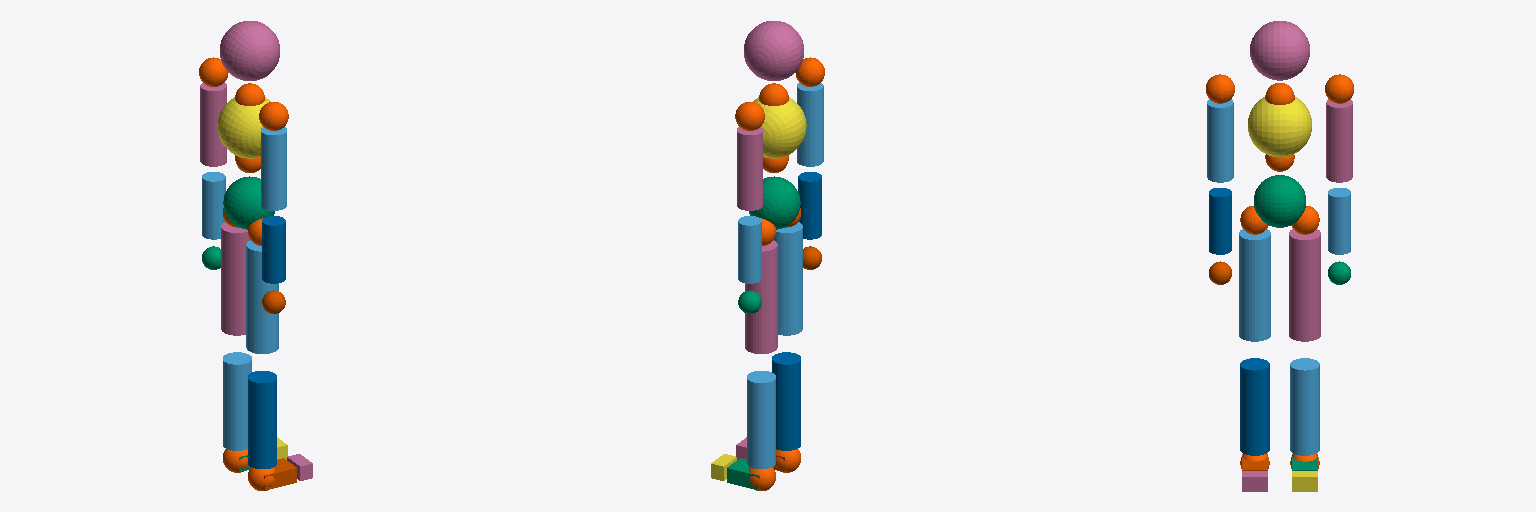
--- What the picture shows (computed from the rendered views, not written in the file) ---
3 views of the same robot in one strip: view 1: azimuth 30°, elevation 25°; view 2: azimuth 150°, elevation 25°; view 3: azimuth 270°, elevation 25° (orthographic).
Model W0004 with 35 links and 34 joints (28 revolute, 6 fixed), rooted at base_link, posed every joint at zero.
Links seen in each view (by area): view 1: neck, right_knee, left_hip, right_hip, left_knee, chest, right_shoulder, left_shoulder, root, right_elbow, left_elbow, chest_right_shoulder_link2 (+3 smaller); view 2: neck, left_knee, right_hip, left_hip, right_knee, chest, left_shoulder, right_shoulder, root, left_elbow, right_elbow, chest_left_shoulder_link2 (+3 smaller); view 3: right_hip, left_hip, chest, right_knee, left_knee, neck, root, right_shoulder, left_shoulder, right_elbow, left_elbow, chest_right_shoulder_link2 (+4 smaller).
Link boxes in pixels (x1,y1,x2,y2): neck: (220,21,279,80); right_knee: (248,371,276,468); left_hip: (221,222,249,335); right_hip: (246,240,278,353); left_knee: (223,352,251,450); chest: (217,97,270,158); right_shoulder: (261,127,286,210); left_shoulder: (200,82,226,166); root: (223,176,274,229); right_elbow: (262,216,285,283); left_elbow: (202,172,225,239); chest_right_shoulder_link2: (259,102,288,130); neck: (744,21,803,80); left_knee: (747,371,775,468); right_hip: (774,222,802,335); left_hip: (745,240,777,353); right_knee: (772,352,800,450); chest: (753,97,806,158); left_shoulder: (737,127,762,210); right_shoulder: (797,82,823,166); root: (749,176,800,229); left_elbow: (738,216,761,283); right_elbow: (798,172,821,239); chest_left_shoulder_link2: (735,102,764,130); right_hip: (1239,229,1270,341); left_hip: (1289,229,1320,341); chest: (1248,97,1311,156); right_knee: (1240,358,1269,455); left_knee: (1290,358,1319,455); neck: (1250,21,1309,80); root: (1254,175,1305,227); right_shoulder: (1207,99,1233,182); left_shoulder: (1326,99,1352,182); right_elbow: (1209,188,1231,254); left_elbow: (1328,188,1350,254); chest_right_shoulder_link2: (1206,74,1234,103).
Size in the robot's own frame: 0.28 by 0.505 by 1.7 metres.
Geometry: primitives only (box / cylinder / sphere), no mesh files.

robot.urdf — W0004:
<?xml version="1.0" ?>
            <robot name="W0004">
            <material name="orange">
                <color rgba="1.0 0.4235294117647059 0.0392156862745098 1.0"/>
            </material>
            <link name="base_link">
                </link>
            <link name="base">
                </link>
            <joint name="j_base_base_link_rotation" type="fixed">
                <parent link="base_link"/>
                <child link="base"/>
                <origin rpy="1.5707963267948966 0 0" xyz="0 0 0"/>
            </joint>
            <link name="root">
                <inertial>
                <origin rpy="0 0 0" xyz="0.0 0.07 0.0"/>
                <mass value="6.000000"/>
                <inertia ixx="0.019440000000000002" ixy="0" ixz="0" iyy="0.019440000000000002" iyz="0" izz="0.019440000000000002"/>
                </inertial>
                <collision>
                <origin rpy="0 0 0" xyz="0.000000 0.070000 0.000000"/>
                <geometry>
                    <sphere radius="0.09"/>
                </geometry>
                </collision>
                <visual>
                <origin rpy="0 0 0" xyz="0.000000 0.070000 0.000000"/>
                <geometry>
                    <sphere radius="0.09"/>
                </geometry>
                </visual>
            </link>
            <joint name="j_root" type="fixed">
                <parent link="base"/>
                <child link="root"/>
                <origin rpy="0 0 0" xyz="0 0.000000 0.000000"/>
            </joint>
            <link name="chest">
                <inertial>
                <origin rpy="0 0 0" xyz="0.000000 0.120000 0.000000"/>
                <mass value="14.000000"/>
                <inertia ixx="0.06776000000000001" ixy="0" ixz="0" iyy="0.06776000000000001" iyz="0" izz="0.06776000000000001"/>
                </inertial>
                <collision>
                <origin rpy="0 0 0" xyz="0.000000 0.120000 0.000000"/>
                <geometry>
                    <sphere radius="0.11"/>
                </geometry>
                </collision>
                <visual>
                <origin rpy="0 0 0" xyz="0.000000 0.120000 0.000000"/>
                <geometry>
                    <sphere radius="0.11"/>
                </geometry>
                </visual>
            </link>
            <link name="root_chest_link1">
                <inertial>
                <mass value="1e-02"/>
                <inertia ixx="1e-02" ixy="0" ixz="0" iyy="1e-02" iyz="0" izz="1e-02"/>
                </inertial>
            </link>
            <joint name="j_root_chest_joint1" type="revolute">
                <origin rpy="0 0 0" xyz="0.0 0.236151 0.000000"/>
                <parent link="root"/>
                <child link="root_chest_link1"/>
                <axis xyz="1 0 0"/>
                <limit effort="200" lower="-1.2" upper="1.2" velocity="3"/>
            </joint>
            <link name="root_chest_link2">
                <inertial>
                <mass value="1e-02"/>
                <inertia ixx="1e-02" ixy="0" ixz="0" iyy="1e-02" iyz="0" izz="1e-02"/>
                </inertial>
                <visual>
                <geometry>
                    <sphere radius="0.05"/>
                </geometry>
                <material name="orange"/>
                </visual>
            </link>
            <joint name="j_root_chest_joint2" type="revolute">
                <parent link="root_chest_link1"/>
                <child link="root_chest_link2"/>
                <axis xyz="0 1 0"/>
                <limit effort="200" lower="-1.2" upper="1.2" velocity="3"/>
            </joint>
            <joint name="j_root_chest_joint3" type="revolute">
                <parent link="root_chest_link2"/>
                <child link="chest"/>
                <axis xyz="0 0 1"/>
                <limit effort="200" lower="-1.2" upper="1.2" velocity="3"/>
            </joint>
            <link name="neck">
                <inertial>
                <origin rpy="0 0 0" xyz="0.0 0.175 0.0"/>
                <mass value="2.000000"/>
                <inertia ixx="0.008405" ixy="0" ixz="0" iyy="0.008405" iyz="0" izz="0.008405"/>
                </inertial>
                <collision>
                <origin rpy="0 0 0" xyz="0.0 0.175 0.0"/>
                <geometry>
                    <sphere radius="0.1025"/>
                </geometry>
                </collision>
                <visual>
                <origin rpy="0 0 0" xyz="0.0 0.175 0.0"/>
                <geometry>
                    <sphere radius="0.1025"/>
                </geometry>
                </visual>
            </link>
            <link name="chest_neck_link1">
                <inertial>
                <mass value="1e-02"/>
                <inertia ixx="1e-02" ixy="0" ixz="0" iyy="1e-02" iyz="0" izz="1e-02"/>
                </inertial>
            </link>
            <joint name="j_chest_neck_joint1" type="revolute">
                <origin rpy="0 0 0" xyz="0.000000 0.223894 0.000000"/>
                <parent link="chest"/>
                <child link="chest_neck_link1"/>
                <axis xyz="1 0 0"/>
                <limit effort="50" lower="-1" upper="1" velocity="3"/>
            </joint>
            <link name="chest_neck_link2">
                <inertial>
                <mass value="1e-02"/>
                <inertia ixx="1e-02" ixy="0" ixz="0" iyy="1e-02" iyz="0" izz="1e-02"/>
                </inertial>
                <visual>
                <geometry>
                    <sphere radius="0.05"/>
                </geometry>
                <material name="orange"/>
                </visual>
            </link>
            <joint name="j_chest_neck_joint2" type="revolute">
                <parent link="chest_neck_link1"/>
                <child link="chest_neck_link2"/>
                <axis xyz="0 1 0"/>
                <limit effort="50" lower="-1" upper="1" velocity="3"/>
            </joint>
            <joint name="j_chest_neck_joint3" type="revolute">
                <parent link="chest_neck_link2"/>
                <child link="neck"/>
                <axis xyz="0 0 1"/>
                <limit effort="50" lower="-1" upper="1" velocity="3"/>
            </joint>
            <link name="right_hip">
                <inertial>
                <origin rpy="0 0 0" xyz="0.000000 -0.210000 0.000000"/>
                <mass value="4.500000"/>
                <inertia ixx="0.037153124999999995" ixy="0.0" ixz="0.0" iyy="0.037153124999999995" iyz="0.0" izz="0.00680625"/>
                </inertial>
                <collision>
                <origin rpy="1.5707963267948966 0 0" xyz="0.000000 -0.210000 0.000000"/>
                <geometry>
                    <cylinder length="0.22499999999999998" radius="0.0275"/>
                </geometry>
                </collision>
                <visual>
                <origin rpy="1.5707963267948966 0 0" xyz="0.000000 -0.24024999999999996 0.000000"/>
                <geometry>
                    <cylinder length="0.38049999999999995" radius="0.055"/>
                </geometry>
                </visual>
            </link>
            <link name="root_right_hip_link1">
                <inertial>
                <mass value="1e-02"/>
                <inertia ixx="1e-02" ixy="0" ixz="0" iyy="1e-02" iyz="0" izz="1e-02"/>
                </inertial>
            </link>
            <joint name="j_root_right_hip_joint1" type="revolute">
                <origin rpy="0 0 0" xyz="0.000000 0.000000 0.084887"/>
                <parent link="root"/>
                <child link="root_right_hip_link1"/>
                <axis xyz="1 0 0"/>
                <limit effort="200" lower="-1.5" upper="1.5" velocity="3"/>
            </joint>
            <link name="root_right_hip_link2">
                <inertial>
                <mass value="1e-02"/>
                <inertia ixx="1e-02" ixy="0" ixz="0" iyy="1e-02" iyz="0" izz="1e-02"/>
                </inertial>
                <visual>
                <geometry>
                    <sphere radius="0.05"/>
                </geometry>
                <material name="orange"/>
                </visual>
            </link>
            <joint name="j_root_right_hip_joint2" type="revolute">
                <parent link="root_right_hip_link1"/>
                <child link="root_right_hip_link2"/>
                <axis xyz="0 1 0"/>
                <limit effort="200" lower="-1.5" upper="1.5" velocity="3"/>
            </joint>
            <joint name="j_root_right_hip_joint3" type="revolute">
                <parent link="root_right_hip_link2"/>
                <child link="right_hip"/>
                <axis xyz="0 0 1"/>
                <limit effort="200" lower="-1.5" upper="1.5" velocity="3"/>
            </joint>
            <link name="right_knee">
                <inertial>
                <origin rpy="0 0 0" xyz="0.000000 -0.200000 0.000000"/>
                <mass value="3.000000"/>
                <inertia ixx="0.1" ixy="0" ixz="0" iyy="0.1" iyz="0" izz="0.1"/>
                </inertial>
                <collision>
                <origin rpy="1.5707963267948966 0 0" xyz="0.000000 -0.200000 0.000000"/>
                <geometry>
                    <cylinder length="0.23249999999999998" radius="0.025"/>
                </geometry>
                </collision>
                <visual>
                <origin rpy="1.5707963267948966 0 0" xyz="0.000000 -0.2 0.000000"/>
                <geometry>
                    <cylinder length="0.32" radius="0.05"/>
                </geometry>
                </visual>
            </link>
            <joint name="j_right_knee" type="revolute">
                <parent link="right_hip"/>
                <child link="right_knee"/>
                <limit effort="150.0" lower="-3.14" upper="0." velocity="0.5"/>
                <origin rpy="0 0 0" xyz="0.000000 -0.5005 0.000000"/>
                <axis xyz="0.000000 0.000000 1.000000"/>
            </joint>
            <link name="right_ankle">
                <inertial>
                <origin rpy="0 0 0" xyz="0.045 -0.00225 0.000000"/>
                <mass value="1.000000"/>
                <inertia ixx="0.0009270833333333333" ixy="0.0" ixz="0.0" iyy="0.0028628333333333327" iyz="0.0" izz="0.003285749999999999"/>
                </inertial>
                <collision>
                <origin rpy="0 0 0" xyz="0.045 -0.00225 0.000000"/>
                <geometry>
                    <box size="0.127 0.055 0.09"/>
                </geometry>
                </collision>
                <visual>
                <origin rpy="0 0 0" xyz="0.045 -0.00225 0.000000"/>
                <geometry>
                    <box size="0.127 0.055 0.09"/>
                </geometry>
                </visual>
            </link>
            <joint name="j_right_toe" type="fixed">
                <parent link="right_ankle"/>
                <child link="right_toe"/>
                <limit effort="150.0" lower="-3.14" upper="0." velocity="0.5"/>
                <origin rpy="0 0 0" xyz="0.1 0.0 0.0"/>
                <axis xyz="0.000000 0.000000 1.000000"/>
            </joint>
            <link name="right_toe">
                <inertial>
                <origin rpy="0 0 0" xyz="0.045 0.0 0.0"/>
                <mass value="0.3"/>
                <inertia ixx="0.0009270833333333333" ixy="0.0" ixz="0.0" iyy="0.0028628333333333327" iyz="0.0" izz="0.003285749999999999"/>
                </inertial>
                <collision>
                <origin rpy="0 0 0" xyz="0.045 0.0 0.0"/>
                <geometry>
                    <box size="0.05 0.055 0.09"/>
                </geometry>
                </collision>
                <visual>
                <origin rpy="0 0 0" xyz="0.045 0.0 0.0"/>
                <geometry>
                    <box size="0.05 0.055 0.09"/>
                </geometry>
                </visual>
            </link>
            <link name="right_knee_right_ankle_link1">
                <inertial>
                <mass value="1e-02"/>
                <inertia ixx="1e-02" ixy="0" ixz="0" iyy="1e-02" iyz="0" izz="1e-02"/>
                </inertial>
            </link>
            <joint name="j_right_knee_right_ankle_joint1" type="revolute">
                <origin rpy="0 0 0" xyz="0.000000 -0.41000000000000003 0.000000"/>
                <parent link="right_knee"/>
                <child link="right_knee_right_ankle_link1"/>
                <axis xyz="1 0 0"/>
                <limit effort="90" lower="-1.2" upper="1.2" velocity="3"/>
            </joint>
            <link name="right_knee_right_ankle_link2">
                <inertial>
                <mass value="1e-02"/>
                <inertia ixx="1e-02" ixy="0" ixz="0" iyy="1e-02" iyz="0" izz="1e-02"/>
                </inertial>
                <visual>
                <geometry>
                    <sphere radius="0.05"/>
                </geometry>
                <material name="orange"/>
                </visual>
            </link>
            <joint name="j_right_knee_right_ankle_joint2" type="revolute">
                <parent link="right_knee_right_ankle_link1"/>
                <child link="right_knee_right_ankle_link2"/>
                <axis xyz="0 1 0"/>
                <limit effort="90" lower="-1.2" upper="1.2" velocity="3"/>
            </joint>
            <joint name="j_right_knee_right_ankle_joint3" type="revolute">
                <parent link="right_knee_right_ankle_link2"/>
                <child link="right_ankle"/>
                <axis xyz="0 0 1"/>
                <limit effort="90" lower="-1.2" upper="1.2" velocity="3"/>
            </joint>
            <link name="right_shoulder">
                <inertial>
                <origin rpy="0 0 0" xyz="0.000000 -0.140000 0.000000"/>
                <mass value="1.500000"/>
                <inertia ixx="0.004809374999999999" ixy="0.0" ixz="0.0" iyy="0.004809374999999999" iyz="0.0" izz="0.0015187500000000001"/>
                </inertial>
                <collision>
                <origin rpy="1.5707963267948966 0 0" xyz="0.000000 -0.140000 0.000000"/>
                <geometry>
                    <cylinder length="0.135" radius="0.0225"/>
                </geometry>
                </collision>
                <visual>
                <origin rpy="1.5707963267948966 0 0" xyz="0.000000 -0.19 0.000000"/>
                <geometry>
                    <cylinder length="0.28" radius="0.045"/>
                </geometry>
                </visual>
            </link>
            <link name="chest_right_shoulder_link1">
                <inertial>
                <mass value="1e-02"/>
                <inertia ixx="1e-02" ixy="0" ixz="0" iyy="1e-02" iyz="0" izz="1e-02"/>
                </inertial>
            </link>
            <joint name="j_chest_right_shoulder_joint1" type="revolute">
                <origin rpy="0 0 0" xyz="-0.02406 0.24350 0.2025"/>
                <parent link="chest"/>
                <child link="chest_right_shoulder_link1"/>
                <axis xyz="1 0 0"/>
                <limit effort="100" lower="-3.14" upper="3.14" velocity="3"/>
            </joint>
            <link name="chest_right_shoulder_link2">
                <inertial>
                <mass value="1e-02"/>
                <inertia ixx="1e-02" ixy="0" ixz="0" iyy="1e-02" iyz="0" izz="1e-02"/>
                </inertial>
                <visual>
                <geometry>
                    <sphere radius="0.05"/>
                </geometry>
                <material name="orange"/>
                </visual>
            </link>
            <joint name="j_chest_right_shoulder_joint2" type="revolute">
                <parent link="chest_right_shoulder_link1"/>
                <child link="chest_right_shoulder_link2"/>
                <axis xyz="0 1 0"/>
                <limit effort="100" lower="-3.14" upper="3.14" velocity="3"/>
            </joint>
            <joint name="j_chest_right_shoulder_joint3" type="revolute">
                <parent link="chest_right_shoulder_link2"/>
                <child link="right_shoulder"/>
                <axis xyz="0 0 1"/>
                <limit effort="100" lower="-3.14" upper="3.14" velocity="3"/>
            </joint>
            <link name="right_elbow">
                <inertial>
                <origin rpy="0 0 0" xyz="0.000000 -0.120000 0.000000"/>
                <mass value="1.000000"/>
                <inertia ixx="0.0019187499999999999" ixy="0.0" ixz="0.0" iyy="0.0019187499999999999" iyz="0.0" izz="0.0008"/>
                </inertial>
                <collision>
                <origin rpy="1.5707963267948966 0 0" xyz="0.0 -0.12 0.0"/>
                <geometry>
                    <cylinder length="0.10125" radius="0.02"/>
                </geometry>
                </collision>
                <visual>
                <origin rpy="1.5707963267948966 0 0" xyz="0.0 -0.12 0.0"/>
                <geometry>
                    <cylinder length="0.215" radius="0.04"/>
                </geometry>
                </visual>
            </link>
            <joint name="j_right_elbow" type="revolute">
                <parent link="right_shoulder"/>
                <child link="right_elbow"/>
                <limit effort="60.0" lower="0" upper="3.14" velocity="0.5"/>
                <origin rpy="0 0 0" xyz="0.000000 -0.375 0.000000"/>
                <axis xyz="0.000000 0.000000 1.000000"/>
            </joint>
            <link name="right_wrist">
                <inertial>
                <origin rpy="0 0 0" xyz="0.000000 0.000000 0.000000"/>
                <mass value="0.500000"/>
                <inertia ixx="0.00032" ixy="0" ixz="0" iyy="0.00032" iyz="0" izz="0.00032"/>
                </inertial>
                <collision>
                <origin rpy="0 0 0" xyz="0.000000 0.000000 0.000000"/>
                <geometry>
                    <sphere radius="0.04"/>
                </geometry>
                </collision>
                <visual>
                <origin rpy="0 0 0" xyz="0.000000 0.000000 0.000000"/>
                <geometry>
                    <sphere radius="0.04"/>
                </geometry>
                </visual>
            </link>
            <joint name="j_right_wrist" type="fixed">
                <parent link="right_elbow"/>
                <child link="right_wrist"/>
                <origin rpy="0 0 0" xyz="0.000000 -0.315 0.000000"/>
            </joint>
            <link name="left_hip">
                <inertial>
                <origin rpy="0 0 0" xyz="0.000000 -0.210000 0.000000"/>
                <mass value="4.500000"/>
                <inertia ixx="0.037153124999999995" ixy="0.0" ixz="0.0" iyy="0.037153124999999995" iyz="0.0" izz="0.00680625"/>
                </inertial>
                <collision>
                <origin rpy="1.5707963267948966 0 0" xyz="0.000000 -0.210000 0.000000"/>
                <geometry>
                    <cylinder length="0.22499999999999998" radius="0.0275"/>
                </geometry>
                </collision>
                <visual>
                <origin rpy="1.5707963267948966 0 0" xyz="0.000000 -0.24024999999999996 0.000000"/>
                <geometry>
                    <cylinder length="0.38049999999999995" radius="0.055"/>
                </geometry>
                </visual>
            </link>
            <link name="root_left_hip_link1">
                <inertial>
                <mass value="1e-02"/>
                <inertia ixx="1e-02" ixy="0" ixz="0" iyy="1e-02" iyz="0" izz="1e-02"/>
                </inertial>
            </link>
            <joint name="j_root_left_hip_joint1" type="revolute">
                <origin rpy="0 0 0" xyz="0.000000 0.000000 -0.084887"/>
                <parent link="root"/>
                <child link="root_left_hip_link1"/>
                <axis xyz="1 0 0"/>
                <limit effort="200" lower="-1.5" upper="1.5" velocity="3"/>
            </joint>
            <link name="root_left_hip_link2">
                <inertial>
                <mass value="1e-02"/>
                <inertia ixx="1e-02" ixy="0" ixz="0" iyy="1e-02" iyz="0" izz="1e-02"/>
                </inertial>
                <visual>
                <geometry>
                    <sphere radius="0.05"/>
                </geometry>
                <material name="orange"/>
                </visual>
            </link>
            <joint name="j_root_left_hip_joint2" type="revolute">
                <parent link="root_left_hip_link1"/>
                <child link="root_left_hip_link2"/>
                <axis xyz="0 1 0"/>
                <limit effort="200" lower="-1.5" upper="1.5" velocity="3"/>
            </joint>
            <joint name="j_root_left_hip_joint3" type="revolute">
                <parent link="root_left_hip_link2"/>
                <child link="left_hip"/>
                <axis xyz="0 0 1"/>
                <limit effort="200" lower="-1.5" upper="1.5" velocity="3"/>
            </joint>
            <link name="left_knee">
                <inertial>
                <origin rpy="0 0 0" xyz="0.000000 -0.200000 0.000000"/>
                <mass value="3.000000"/>
                <inertia ixx="0.025900000000000003" ixy="0.0" ixz="0.0" iyy="0.025900000000000003" iyz="0.0" izz="0.0037500000000000007"/>
                </inertial>
                <collision>
                <origin rpy="1.5707963267948966 0 0" xyz="0.000000 -0.200000 0.000000"/>
                <geometry>
                    <cylinder length="0.23249999999999998" radius="0.025"/>
                </geometry>
                </collision>
                <visual>
                <origin rpy="1.5707963267948966 0 0" xyz="0.000000 -0.2 0.000000"/>
                <geometry>
                    <cylinder length="0.32" radius="0.05"/>
                </geometry>
                </visual>
            </link>
            <joint name="j_left_knee" type="revolute">
                <parent link="left_hip"/>
                <child link="left_knee"/>
                <limit effort="150.0" lower="-3.14" upper="0." velocity="0.5"/>
                <origin rpy="0 0 0" xyz="0.000000 -0.5005 0.000000"/>
                <axis xyz="0.000000 0.000000 1.000000"/>
            </joint>
            <link name="left_ankle">
                <inertial>
                <origin rpy="0 0 0" xyz="0.045 -0.00225 0.0"/>
                <mass value="0.7"/>
                <inertia ixx="0.0009270833333333333" ixy="0.0" ixz="0.0" iyy="0.0028628333333333327" iyz="0.0" izz="0.003285749999999999"/>
                </inertial>
                <collision>
                <origin rpy="0 0 0" xyz="0.045 -0.00225 0.0"/>
                <geometry>
                    <box size="0.127 0.055 0.09"/>
                </geometry>
                </collision>
                <visual>
                <origin rpy="0 0 0" xyz="0.045 -0.00225 0.0"/>
                <geometry>
                    <box size="0.127 0.055 0.09"/>
                </geometry>
                </visual>
            </link>
            <joint name="j_left_toe" type="fixed">
                <parent link="left_ankle"/>
                <child link="left_toe"/>
                <limit effort="150.0" lower="-3.14" upper="0." velocity="0.5"/>
                <origin rpy="0 0 0" xyz="0.1 0.0 0.0"/>
                <axis xyz="0.000000 0.000000 1.000000"/>
            </joint>
            <link name="left_toe">
                <inertial>
                <origin rpy="0 0 0" xyz="0.045 0.0 0.0"/>
                <mass value="0.3"/>
                <inertia ixx="0.0009270833333333333" ixy="0.0" ixz="0.0" iyy="0.0028628333333333327" iyz="0.0" izz="0.003285749999999999"/>
                </inertial>
                <collision>
                <origin rpy="0 0 0" xyz="0.045 0.0 0.0"/>
                <geometry>
                    <box size="0.05 0.055 0.09"/>
                </geometry>
                </collision>
                <visual>
                <origin rpy="0 0 0" xyz="0.045 0.0 0.0"/>
                <geometry>
                    <box size="0.05 0.055 0.09"/>
                </geometry>
                </visual>
            </link>
            <link name="left_knee_left_ankle_link1">
                <inertial>
                <mass value="1e-02"/>
                <inertia ixx="1e-02" ixy="0" ixz="0" iyy="1e-02" iyz="0" izz="1e-02"/>
                </inertial>
            </link>
            <joint name="j_left_knee_left_ankle_joint1" type="revolute">
                <origin rpy="0 0 0" xyz="0.000000 -0.41000000000000003 0.000000"/>
                <parent link="left_knee"/>
                <child link="left_knee_left_ankle_link1"/>
                <axis xyz="1 0 0"/>
                <limit effort="90" lower="-1.2" upper="1.2" velocity="3"/>
            </joint>
            <link name="left_knee_left_ankle_link2">
                <inertial>
                <mass value="1e-02"/>
                <inertia ixx="1e-02" ixy="0" ixz="0" iyy="1e-02" iyz="0" izz="1e-02"/>
                </inertial>
                <visual>
                <geometry>
                    <sphere radius="0.05"/>
                </geometry>
                <material name="orange"/>
                </visual>
            </link>
            <joint name="j_left_knee_left_ankle_joint2" type="revolute">
                <parent link="left_knee_left_ankle_link1"/>
                <child link="left_knee_left_ankle_link2"/>
                <axis xyz="0 1 0"/>
                <limit effort="90" lower="-1.2" upper="1.2" velocity="3"/>
            </joint>
            <joint name="j_left_knee_left_ankle_joint3" type="revolute">
                <parent link="left_knee_left_ankle_link2"/>
                <child link="left_ankle"/>
                <axis xyz="0 0 1"/>
                <limit effort="90" lower="-1.2" upper="1.2" velocity="3"/>
            </joint>
            <link name="left_shoulder">
                <inertial>
                <origin rpy="0 0 0" xyz="0.000000 -0.140000 0.000000"/>
                <mass value="1.500000"/>
                <inertia ixx="0.004809374999999999" ixy="0.0" ixz="0.0" iyy="0.004809374999999999" iyz="0.0" izz="0.0015187500000000001"/>
                </inertial>
                <collision>
                <origin rpy="1.5707963267948966 0 0" xyz="0.000000 -0.140000 0.000000"/>
                <geometry>
                    <cylinder length="0.135" radius="0.0225"/>
                </geometry>
                </collision>
                <visual>
                <origin rpy="1.5707963267948966 0 0" xyz="0.000000 -0.19 0.000000"/>
                <geometry>
                    <cylinder length="0.28" radius="0.045"/>
                </geometry>
                </visual>
            </link>
            <link name="chest_left_shoulder_link1">
                <inertial>
                <mass value="1e-02"/>
                <inertia ixx="1e-02" ixy="0" ixz="0" iyy="1e-02" iyz="0" izz="1e-02"/>
                </inertial>
            </link>
            <joint name="j_chest_left_shoulder_joint1" type="revolute">
                <origin rpy="0 0 0" xyz="-0.02405 0.24350 -0.2025"/>
                <parent link="chest"/>
                <child link="chest_left_shoulder_link1"/>
                <axis xyz="1 0 0"/>
                <limit effort="100" lower="-3.14" upper="3.14" velocity="3"/>
            </joint>
            <link name="chest_left_shoulder_link2">
                <inertial>
                <mass value="1e-02"/>
                <inertia ixx="1e-02" ixy="0" ixz="0" iyy="1e-02" iyz="0" izz="1e-02"/>
                </inertial>
                <visual>
                <geometry>
                    <sphere radius="0.05"/>
                </geometry>
                <material name="orange"/>
                </visual>
            </link>
            <joint name="j_chest_left_shoulder_joint2" type="revolute">
                <parent link="chest_left_shoulder_link1"/>
                <child link="chest_left_shoulder_link2"/>
                <axis xyz="0 1 0"/>
                <limit effort="100" lower="-3.14" upper="3.14" velocity="3"/>
            </joint>
            <joint name="j_chest_left_shoulder_joint3" type="revolute">
                <parent link="chest_left_shoulder_link2"/>
                <child link="left_shoulder"/>
                <axis xyz="0 0 1"/>
                <limit effort="100" lower="-3.14" upper="3.14" velocity="3"/>
            </joint>
            <link name="left_elbow">
                <inertial>
                <origin rpy="0 0 0" xyz="0.000000 -0.12 0.000000"/>
                <mass value="1.000000"/>
                <inertia ixx="0.0019187499999999999" ixy="0.0" ixz="0.0" iyy="0.0019187499999999999" iyz="0.0" izz="0.0008"/>
                </inertial>
                <collision>
                <origin rpy="1.5707963267948966 0 0" xyz="0.000000 -0.12 0.000000"/>
                <geometry>
                    <cylinder length="0.10125" radius="0.02"/>
                </geometry>
                </collision>
                <visual>
                <origin rpy="1.5707963267948966 0 0" xyz="0.000000 -0.12 0.000000"/>
                <geometry>
                    <cylinder length="0.215" radius="0.04"/>
                </geometry>
                </visual>
            </link>
            <joint name="j_left_elbow" type="revolute">
                <parent link="left_shoulder"/>
                <child link="left_elbow"/>
                <limit effort="60.0" lower="0" upper="3.14" velocity="0.5"/>
                <origin rpy="0 0 0" xyz="0.000000 -0.375 0.000000"/>
                <axis xyz="0.000000 0.000000 1.000000"/>
            </joint>
            <link name="left_wrist">
                <inertial>
                <origin rpy="0 0 0" xyz="0.000000 0.000000 0.000000"/>
                <mass value="0.500000"/>
                <inertia ixx="0.00032" ixy="0" ixz="0" iyy="0.00032" iyz="0" izz="0.00032"/>
                </inertial>
                <collision>
                <origin rpy="0 0 0" xyz="0.000000 0.000000 0.000000"/>
                <geometry>
                    <sphere radius="0.04"/>
                </geometry>
                </collision>
                <visual>
                <origin rpy="0 0 0" xyz="0.000000 0.000000 0.000000"/>
                <geometry>
                    <sphere radius="0.04"/>
                </geometry>
                </visual>
            </link>
            <joint name="j_left_wrist_joint" type="fixed">
                <parent link="left_elbow"/>
                <child link="left_wrist"/>
                <origin rpy="0 0 0" xyz="0.000000 -0.315 0.000000"/>
            </joint>
            </robot>
            
